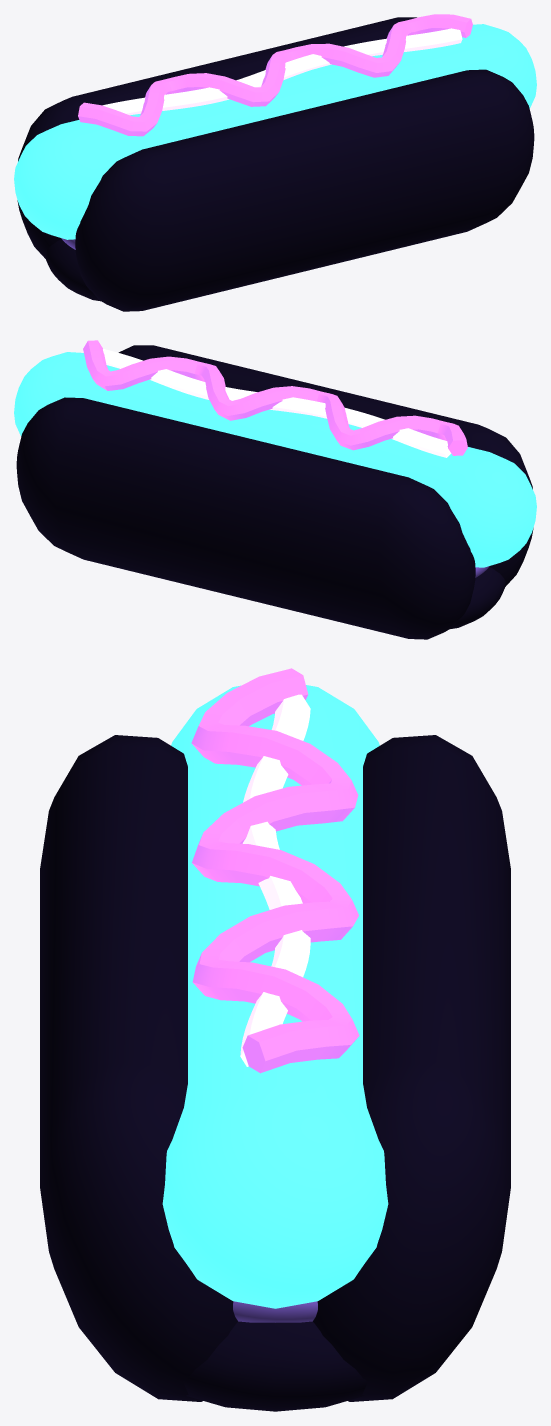
Rendered from VoidHotDog.fbx.
3 renders of one model, top to bottom at view 1: azimuth 30°, elevation 25°; view 2: azimuth 150°, elevation 25°; view 3: azimuth 270°, elevation 25°, orthographic. The views are drawn at different scales.
Visible parts, largest first — view 1: VoidHotDog; view 2: VoidHotDog; view 3: VoidHotDog.
Part boxes in pixels (x1,y1,x2,y2): VoidHotDog: [14, 14, 536, 311]; VoidHotDog: [14, 340, 536, 639]; VoidHotDog: [40, 668, 510, 1411].
Bounding box in the file's own units: 2 × 0.7165 × 0.8033.
